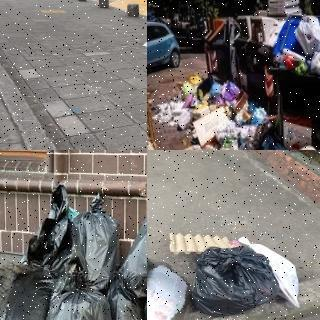Garbage: (13, 180, 81, 295), (189, 245, 281, 318), (68, 191, 125, 287), (40, 274, 122, 320), (0, 262, 58, 320), (147, 258, 192, 320), (118, 202, 147, 293), (293, 13, 320, 54)
